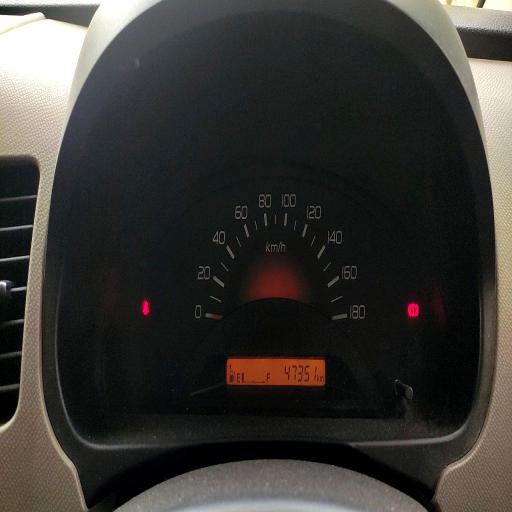belt: (142, 300, 150, 316)
brake_system_fault: (408, 302, 419, 318)
